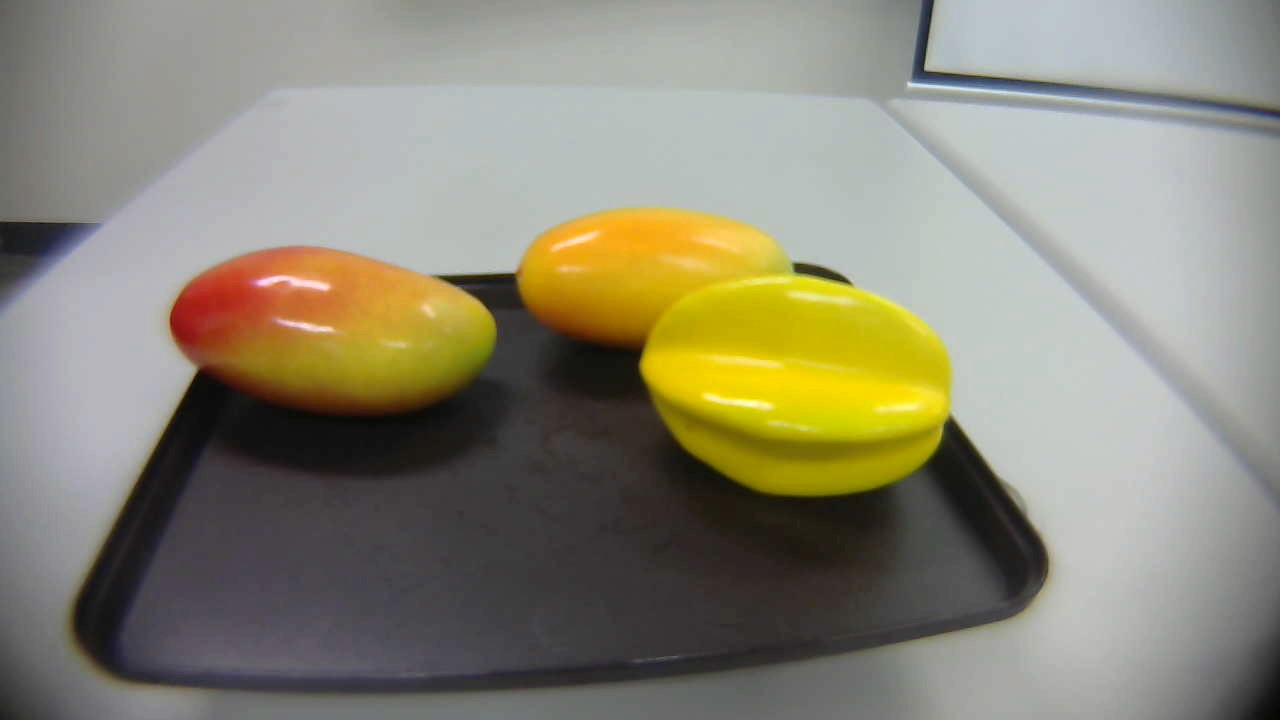red mango: (163, 237, 500, 420)
star fruit: (619, 276, 958, 507)
yellow mango: (512, 202, 794, 345)
